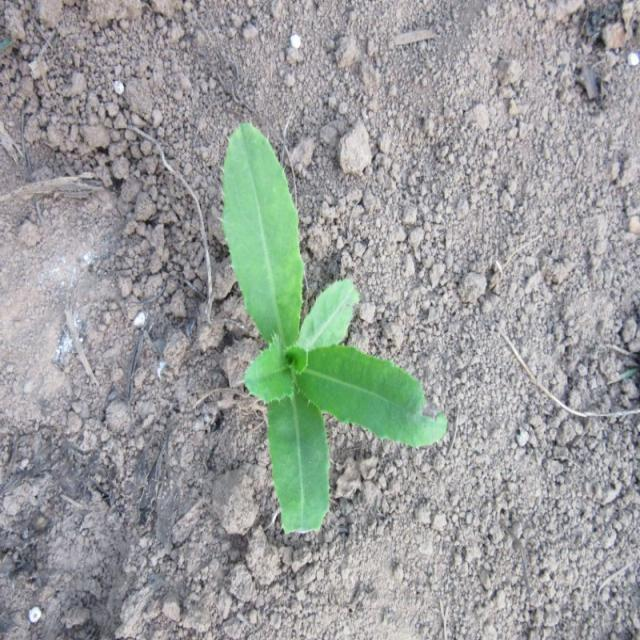cs: (218, 112, 447, 540)
